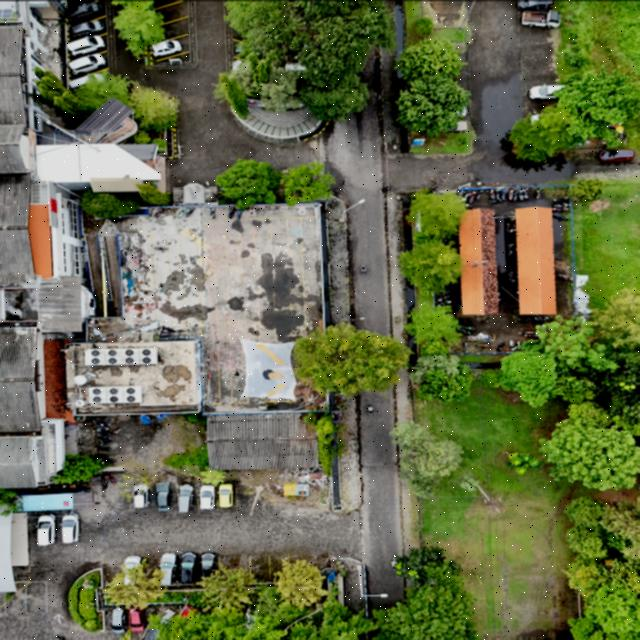Tree: (293, 324, 407, 392), (388, 420, 464, 494), (394, 78, 476, 133), (493, 347, 559, 406), (264, 556, 330, 607), (110, 2, 174, 54), (398, 239, 459, 291), (398, 191, 464, 239), (411, 354, 470, 404), (210, 160, 278, 200), (408, 302, 460, 346), (279, 163, 335, 201), (50, 449, 110, 483), (508, 446, 544, 474)
